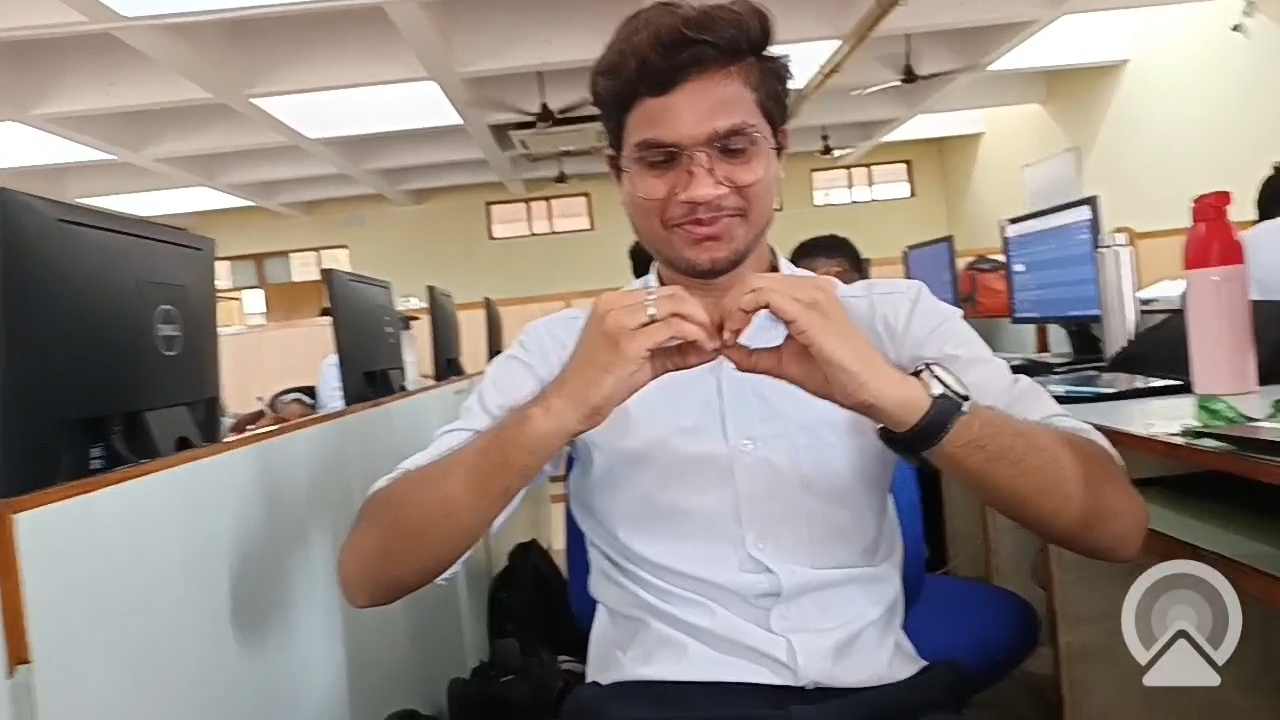B: (516, 267, 945, 467)
